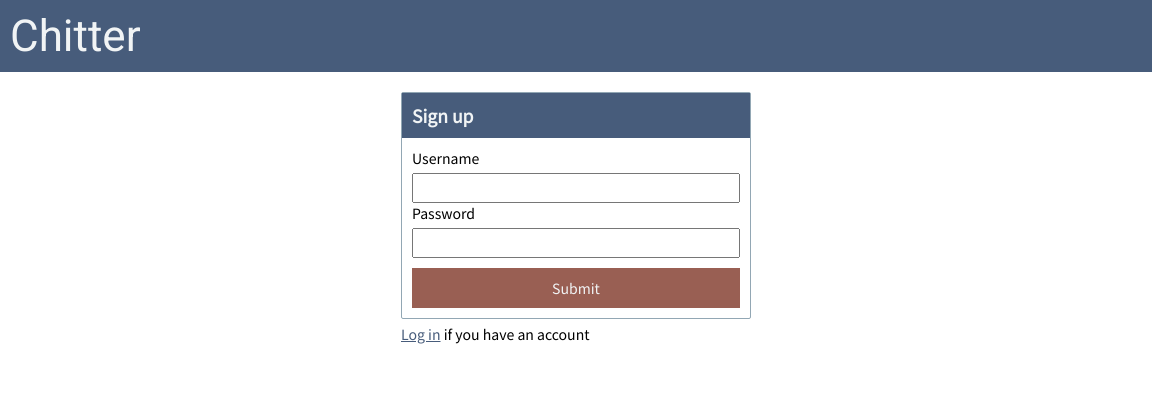
Scenario: MainContainer › logs you out and redirects to login when you click logout
In the field labelled "Username": (576, 188) x1=412 y1=173 x2=740 y2=203, type "steve"
In the password field labelled "Password": (576, 243) x1=412 y1=228 x2=740 y2=258, type "1Abcdefgh2"
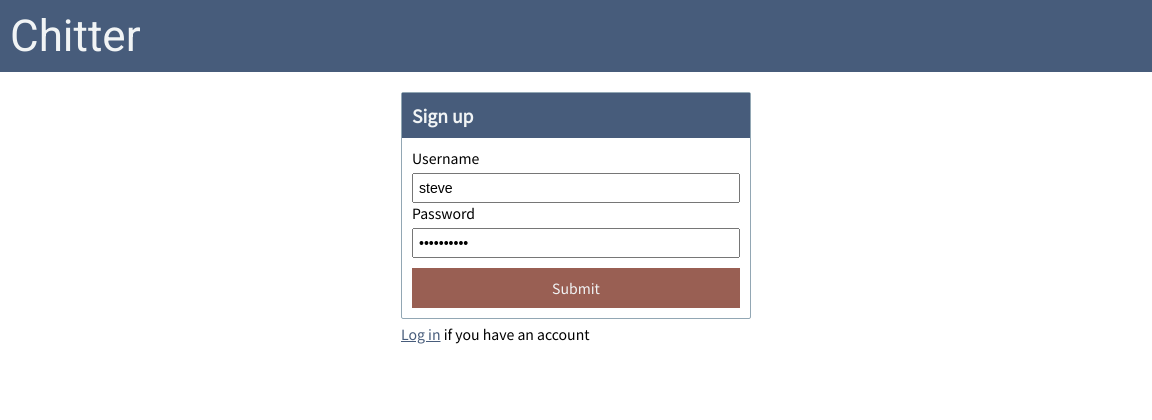
Click the button "Submit": (576, 288) x1=412 y1=268 x2=740 y2=308
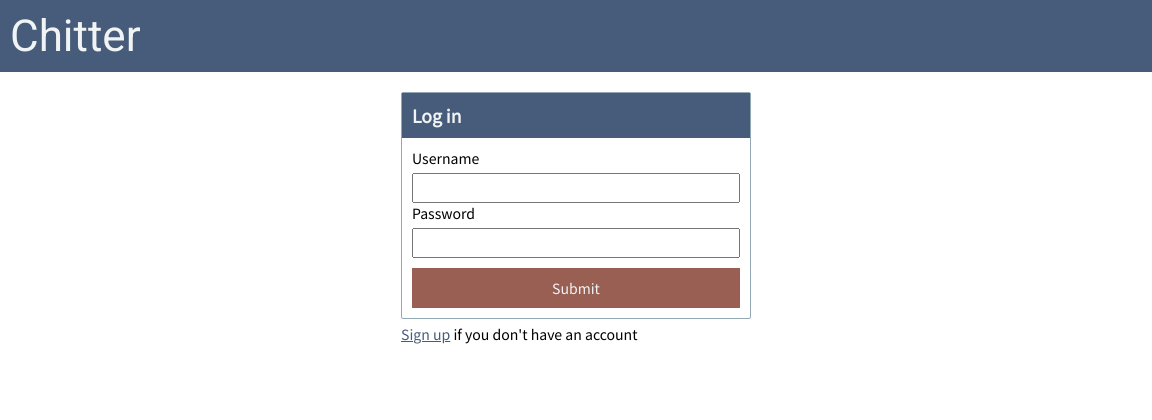
Expected: the heading "Log in" is shown, x1=402 y1=93 x2=750 y2=138
In the field labelled "Username": (576, 188) x1=412 y1=173 x2=740 y2=203, type "steve"
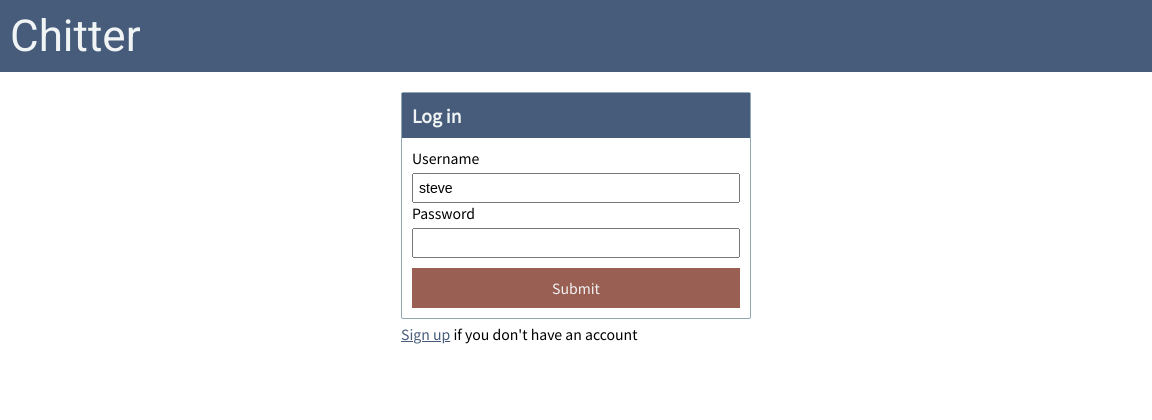
In the password field labelled "Password": (576, 243) x1=412 y1=228 x2=740 y2=258, type "1Abcdefgh2"
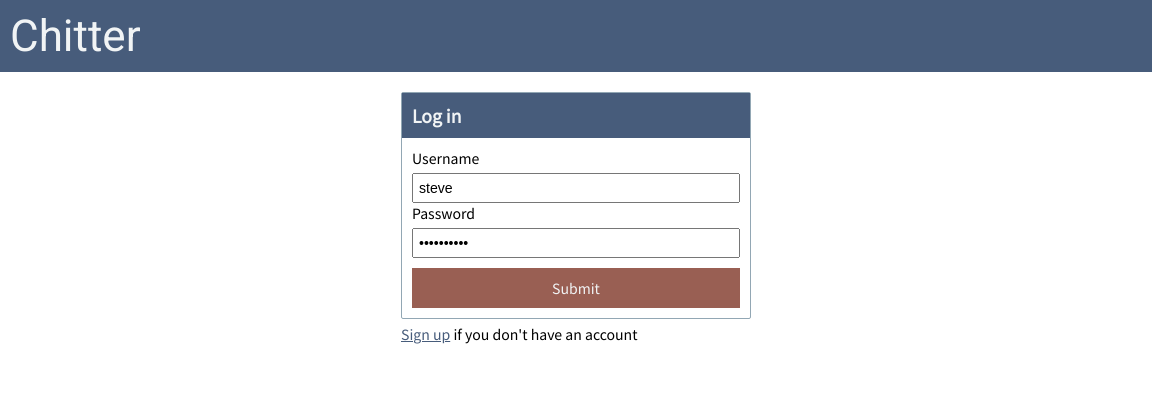
Click the button "Submit": (576, 288) x1=412 y1=268 x2=740 y2=308
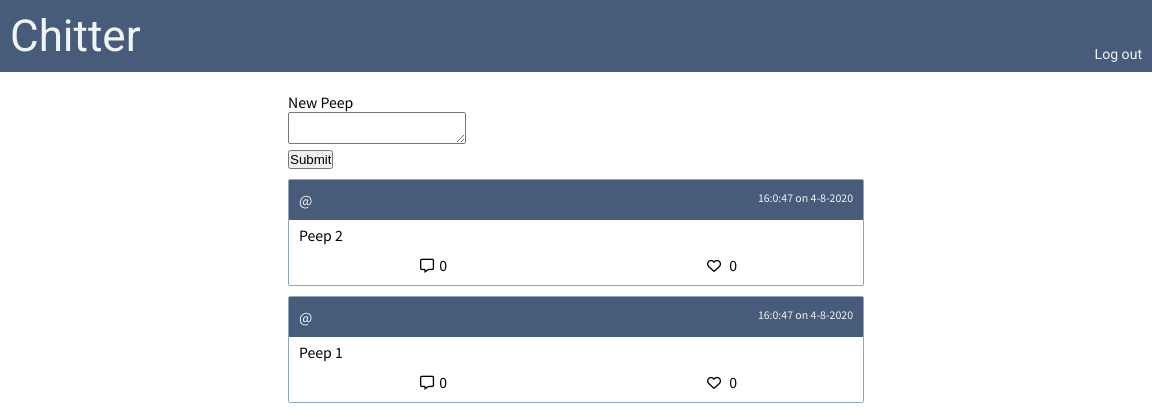
Click the link "Log out": (1118, 54) x1=1095 y1=46 x2=1142 y2=62
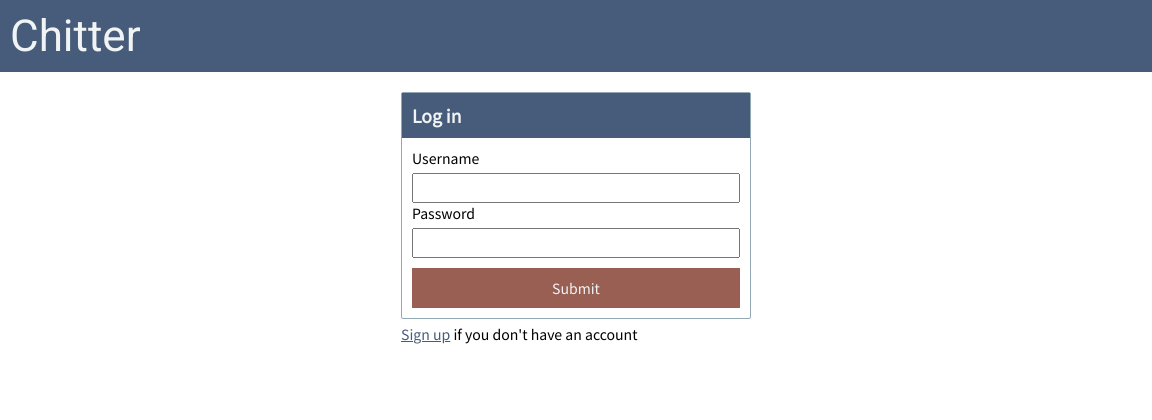
Expected: the heading "Log in" is shown, x1=402 y1=93 x2=750 y2=138
